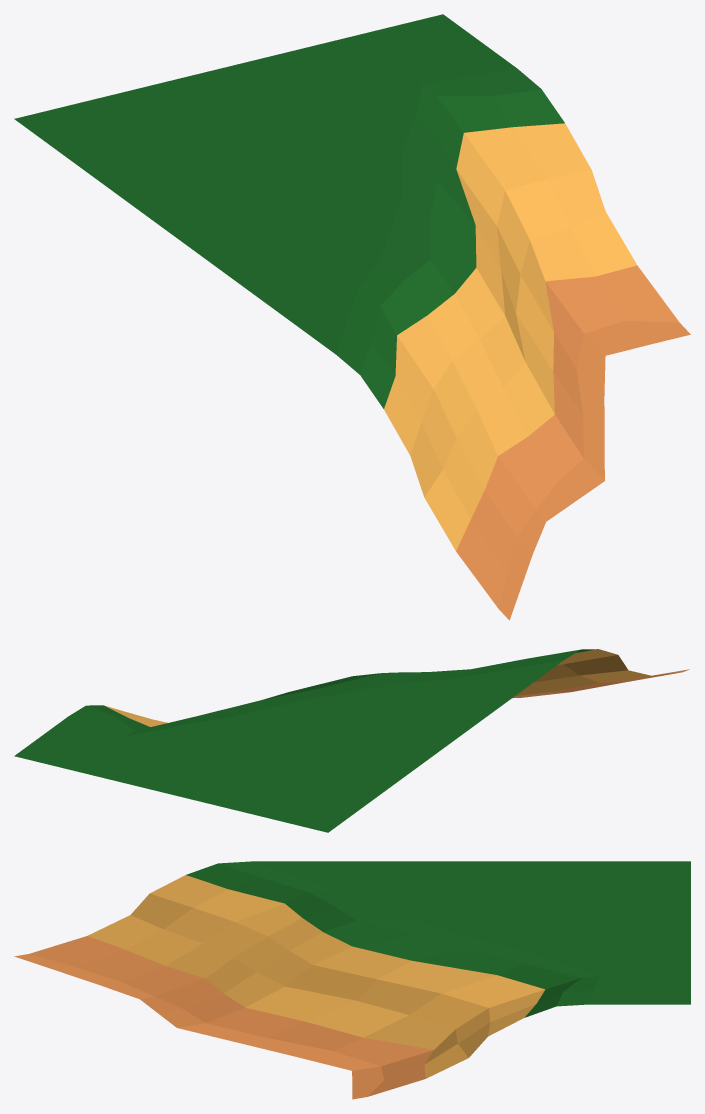
The model's file is Playa_Chanfle_DI.fbx.
3 views of the same model, one above another, from view 1: azimuth 30°, elevation 25°; view 2: azimuth 150°, elevation 25°; view 3: azimuth 270°, elevation 25° (orthographic). The views are drawn at different scales.
Visible parts, largest first — view 1: Playa_Chanfle_DI; view 2: Playa_Chanfle_DI; view 3: Playa_Chanfle_DI.
Part boxes in pixels (x1,y1,x2,y2): Playa_Chanfle_DI: (14,14,690,620); Playa_Chanfle_DI: (14,649,689,832); Playa_Chanfle_DI: (14,861,690,1099).
Size of the model in its own units: 2000 by 619 by 4000.
